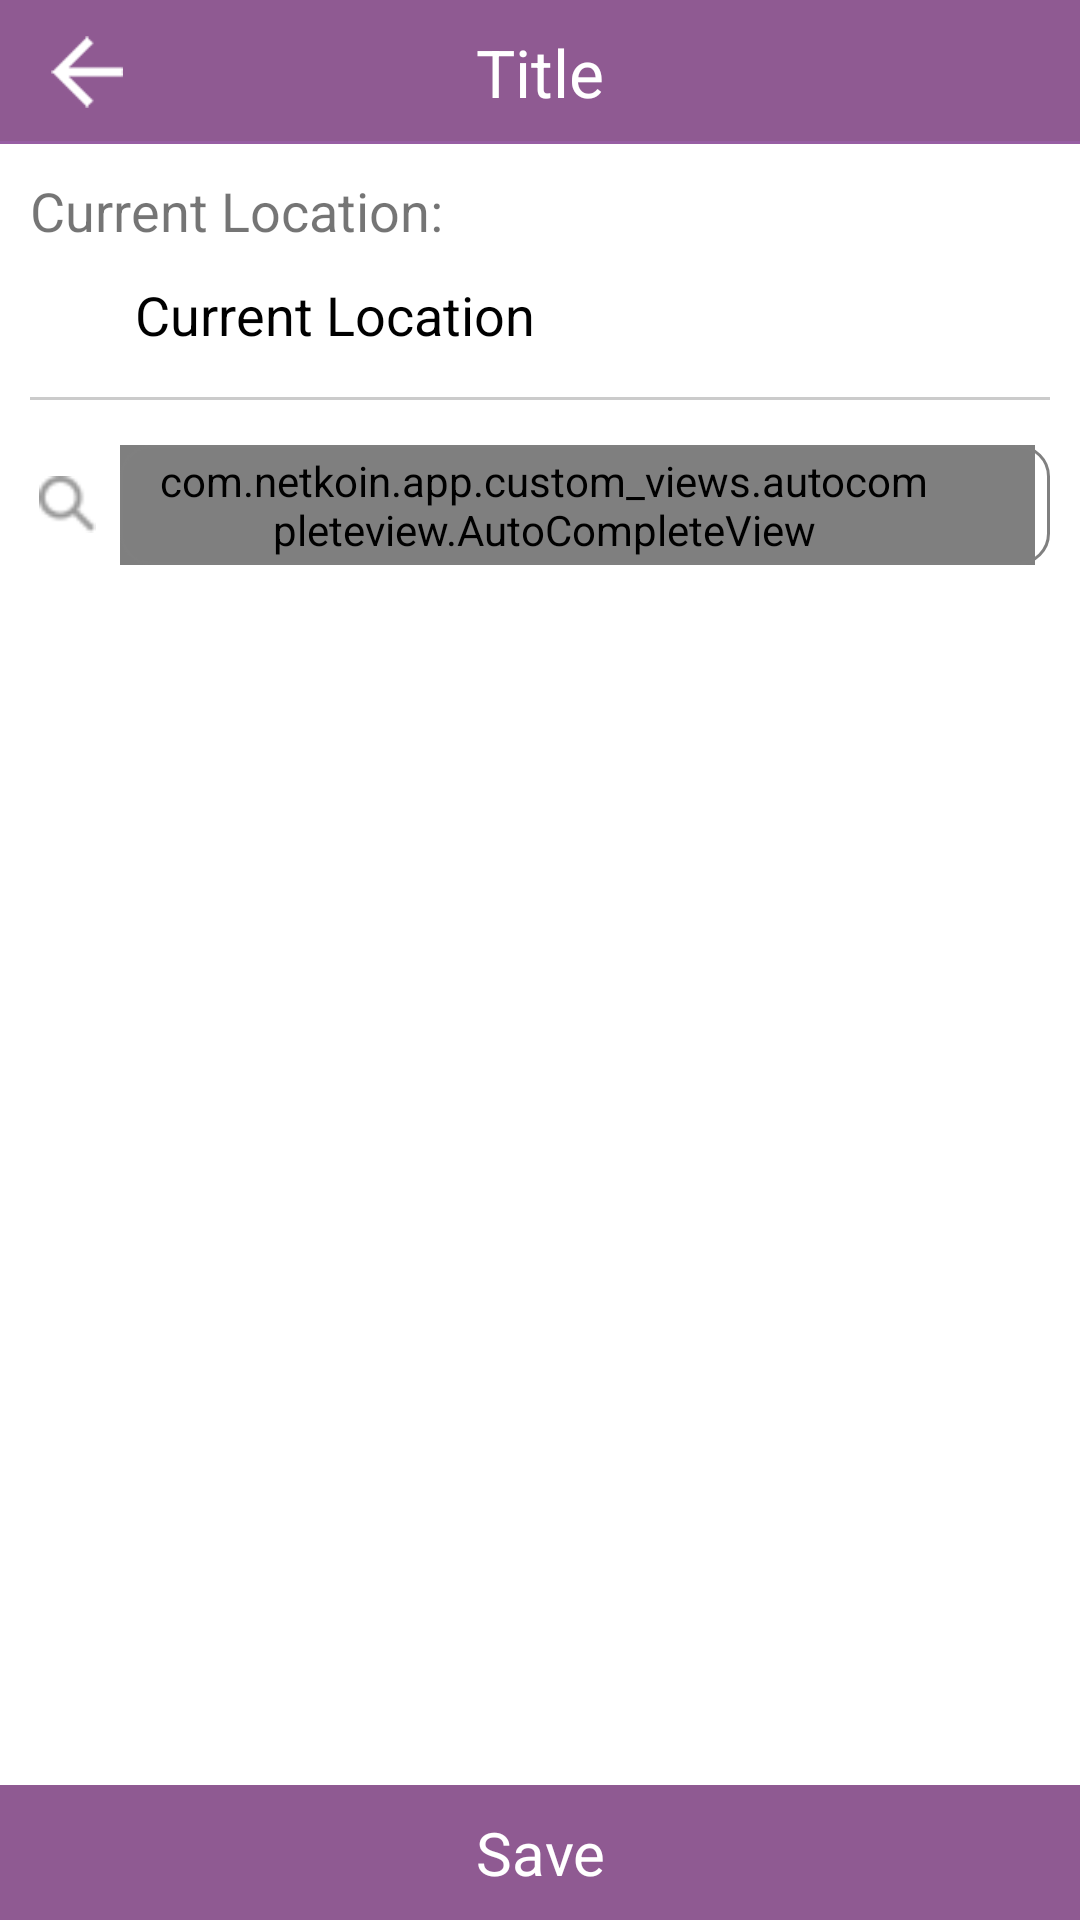

Where icons sit on this 1080 × 1920 app screen, as (x1,y1,x2,y2):
back: (51,36,123,108)
search: (39,476,94,531)
